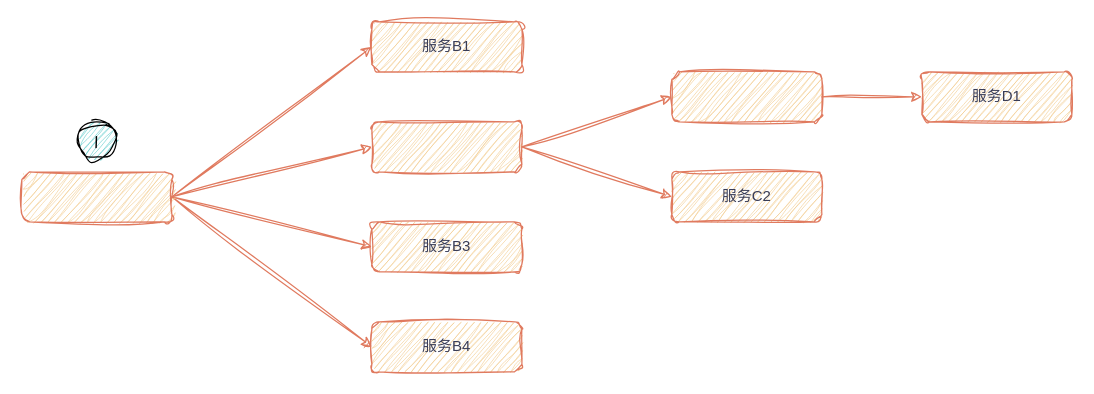
Some shapes in this 1094 by 394 pixel diagram are drawn without their labels. Here are the shapes that lost their labels. From the top down, the centre of each, then its label:
At (x=746, y=96): "服务C1".
At (x=446, y=146): "服务B2".
At (x=96, y=196): "服务A1".
